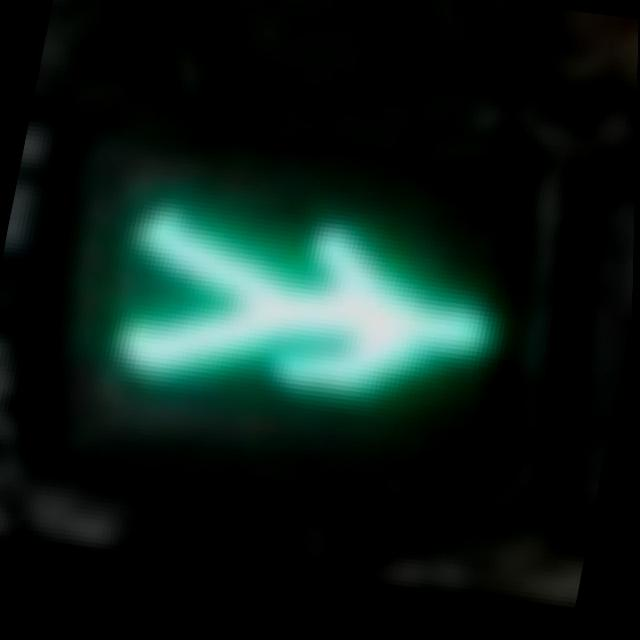green_light: (79, 119, 561, 514)
